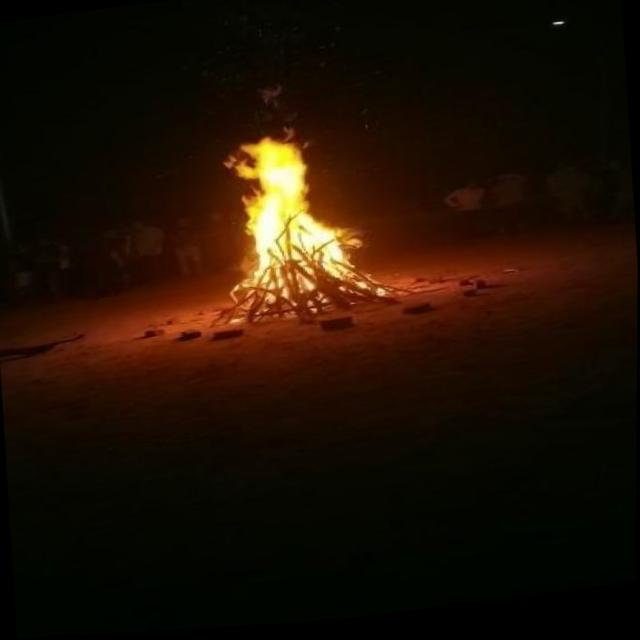fire: (189, 112, 381, 328)
